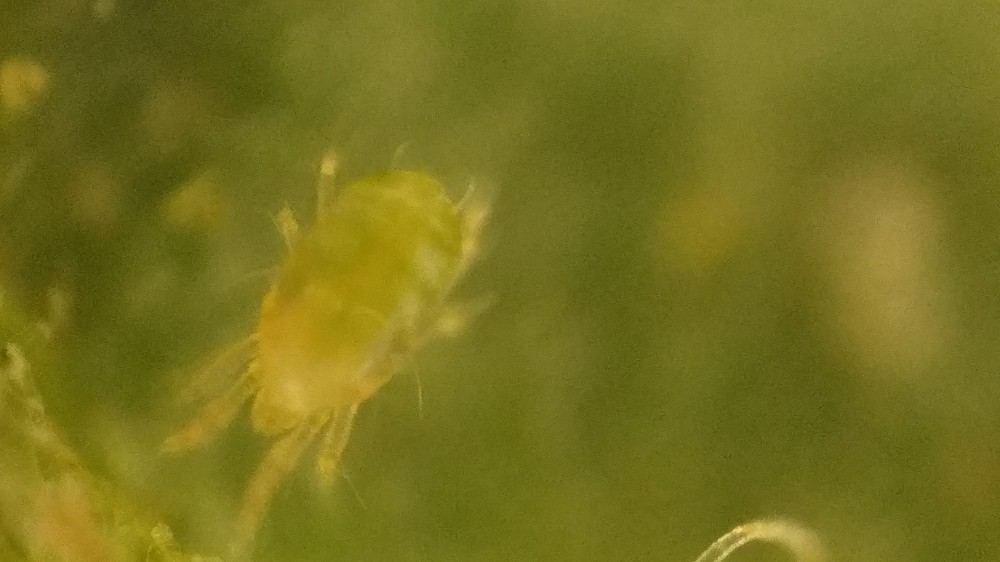Aracnido Rojo: (157, 135, 521, 533)
